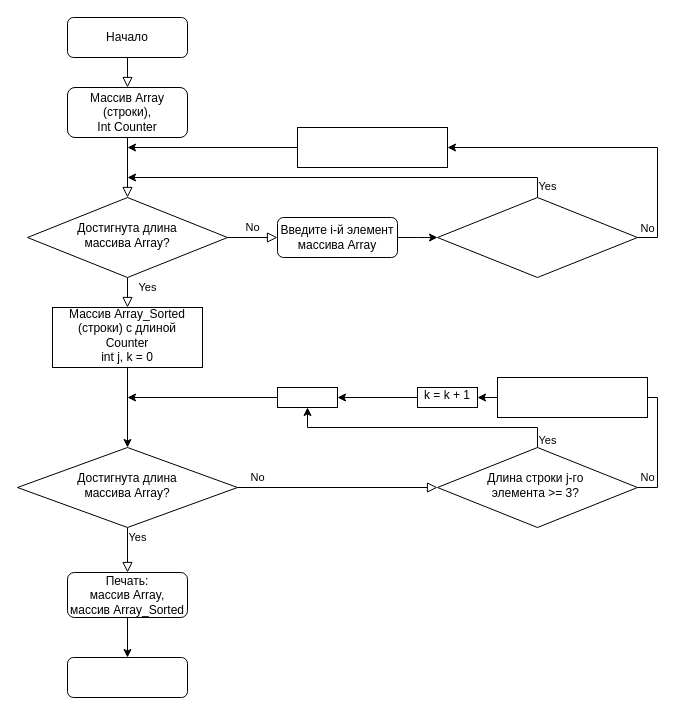
This 683x715 diagram has some shape labels left out. The shapes that lost their labels are listed below. From the top down, each one's centre as x and y in pixels, then its label:
the point at 372,147: Counter = Counter +1
the point at 537,237: Длина строки i-го элемента >= 3?
the point at 307,397: j = j+ 1
the point at 572,397: Добавить k-й элемент массива Array_Sorted
the point at 127,677: Конец
